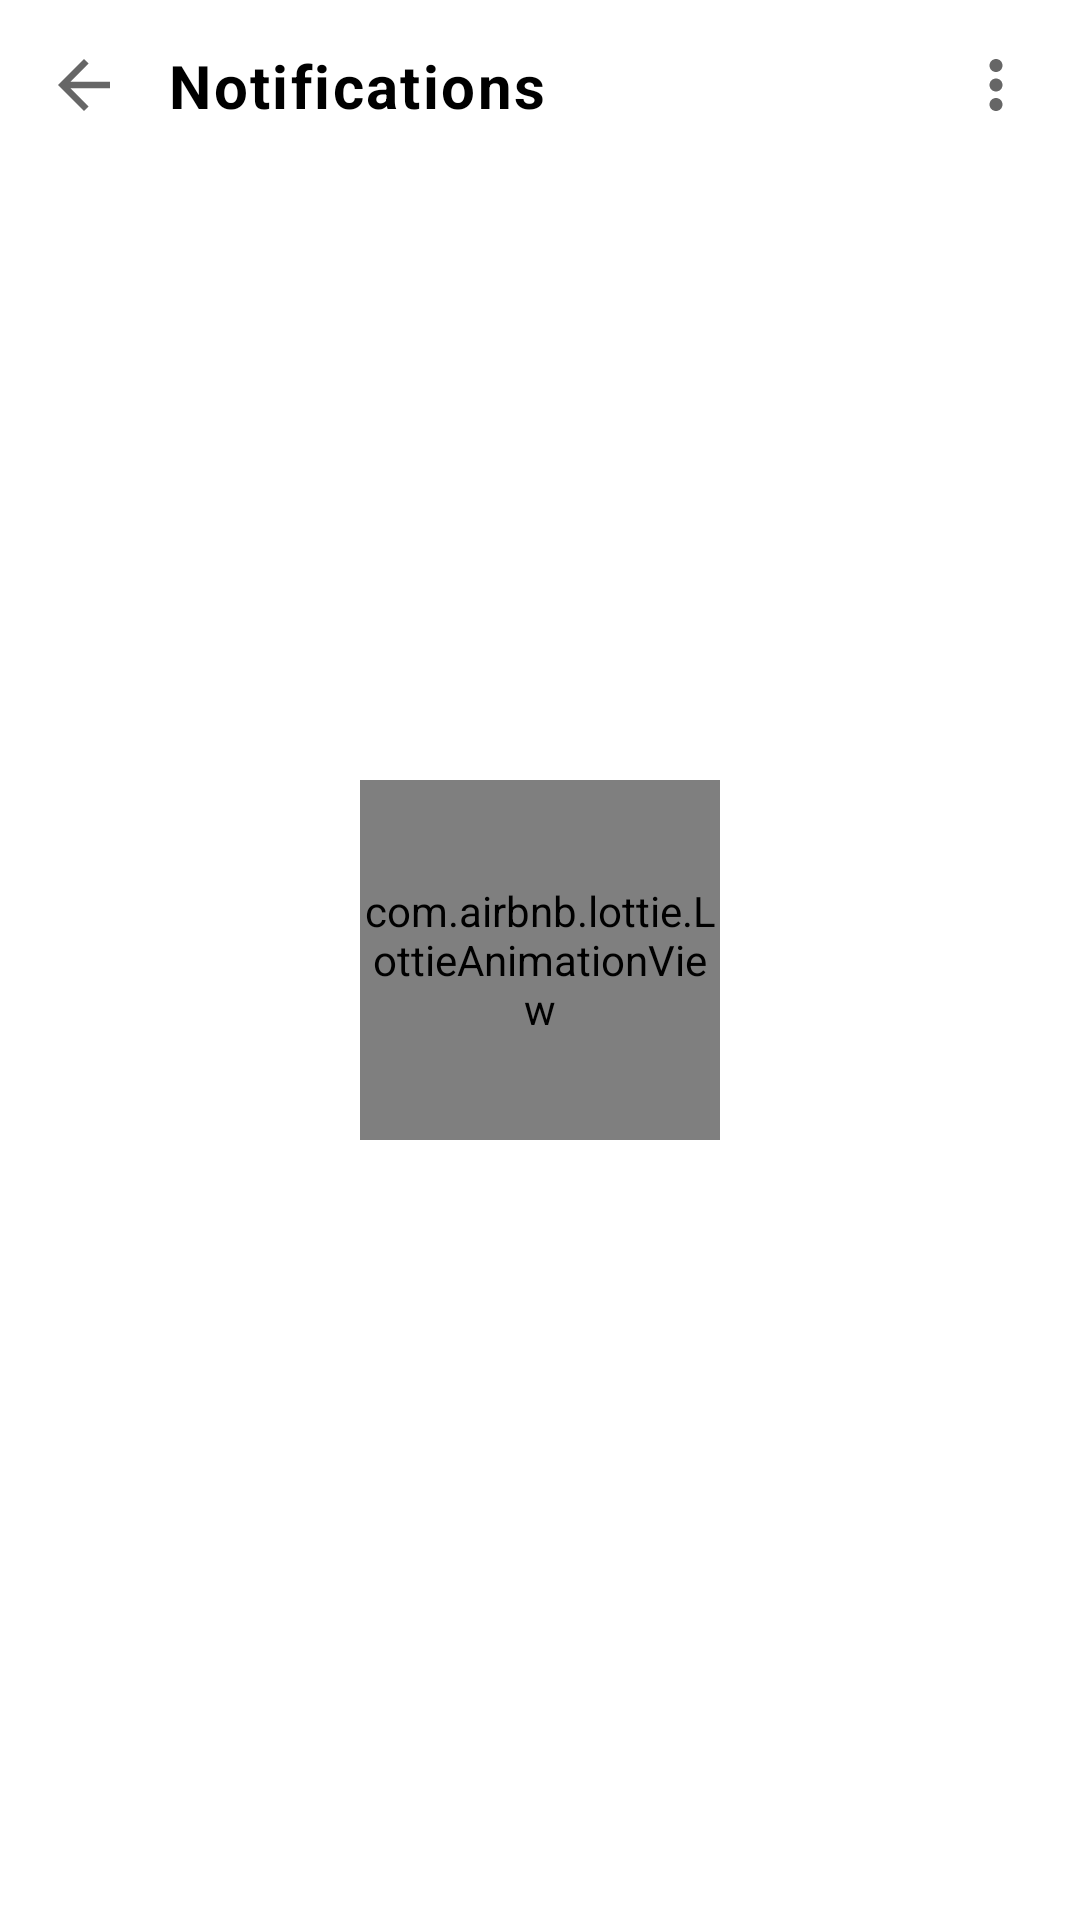

Point at icon controls on the screen. Image size 1080×1920, points as (x,y).
back android: (84,85)
options: (996,85)
